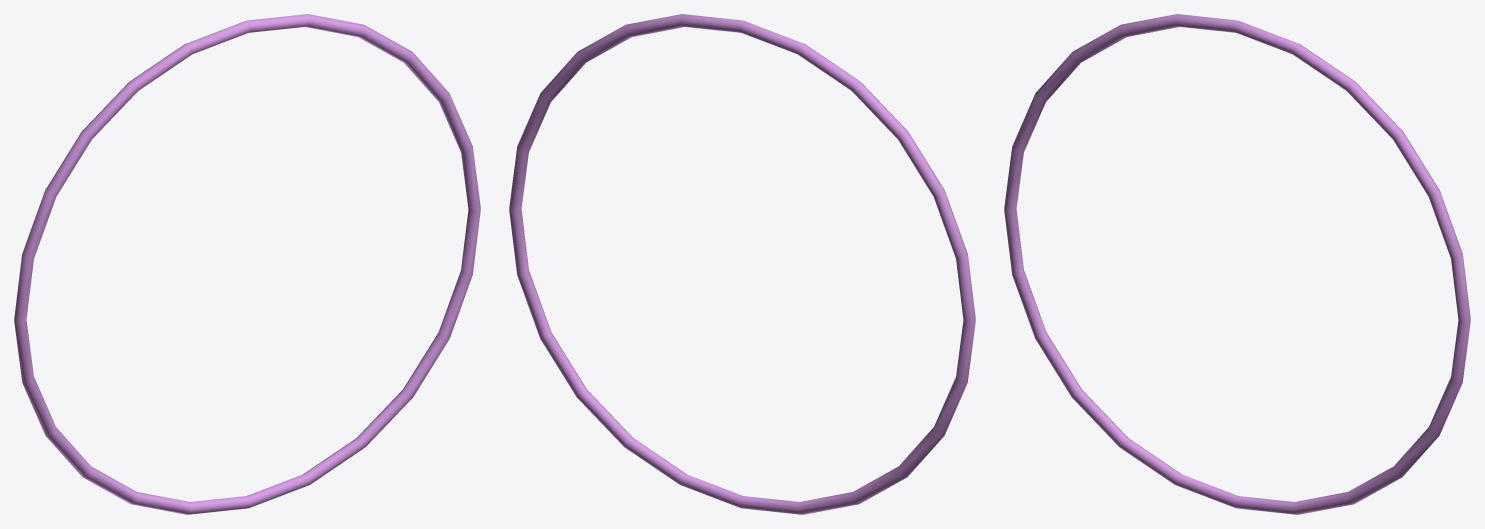
File: ring.dae
The picture shows the model from 3 angles, left to right: view 1: azimuth 30°, elevation 25°; view 2: azimuth 150°, elevation 25°; view 3: azimuth 330°, elevation 25°; orthographic projection.
Visible parts, largest first — view 1: Torus01; view 2: Torus01; view 3: Torus01.
Boxes of the visible parts, left/top/right/bottom form: Torus01: left=14, top=14, right=480, bottom=514; Torus01: left=509, top=14, right=975, bottom=514; Torus01: left=1004, top=14, right=1470, bottom=514.
Size of the model in its own units: 60.63 by 1.36 by 60.63.
